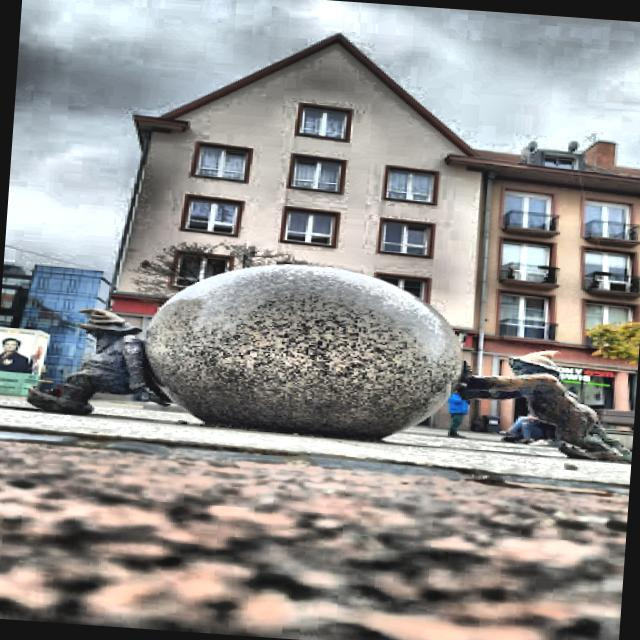Syzyfki: (12, 242, 640, 468)
